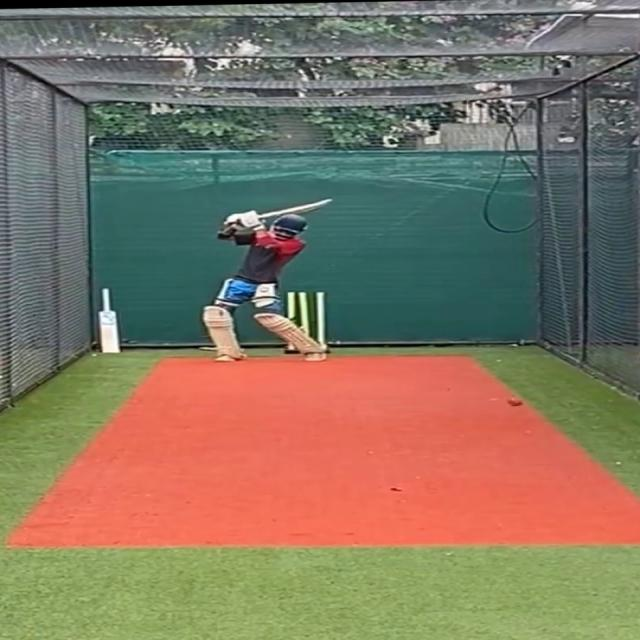ball: (507, 395, 526, 408)
stump: (282, 291, 333, 351)
